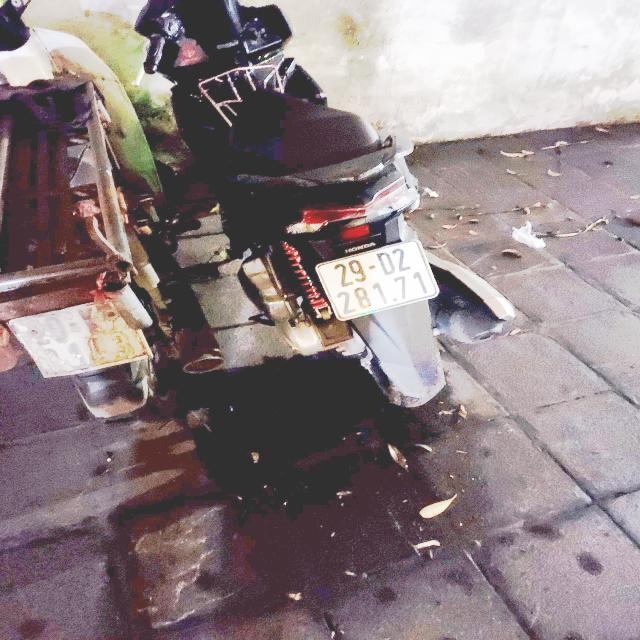license_plate: (313, 239, 446, 324)
